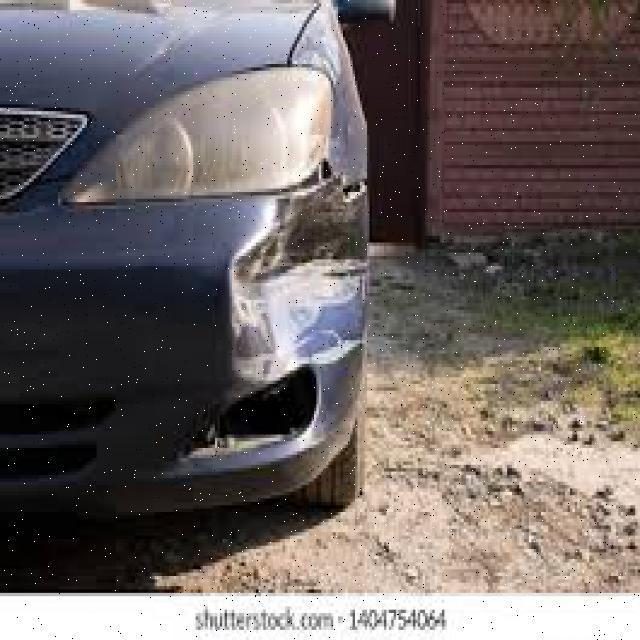hood: (1, 157, 376, 487)
